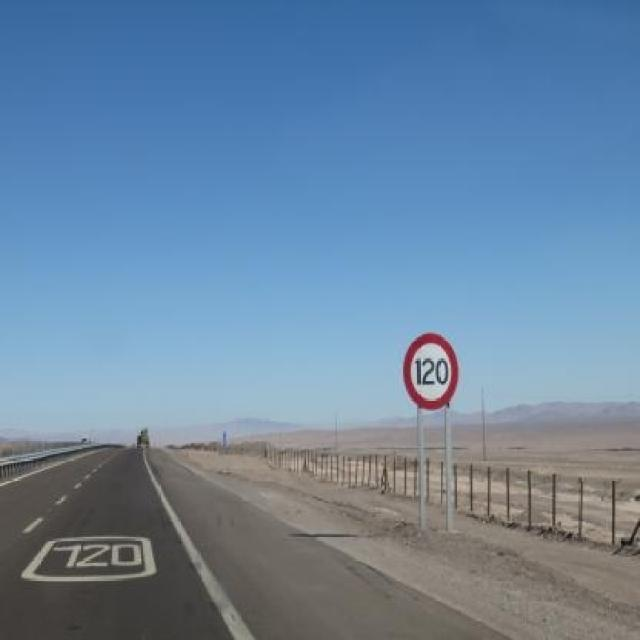forb_speed_over_120: (402, 330, 458, 408)
